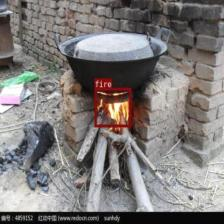fire: (94, 88, 131, 127)
